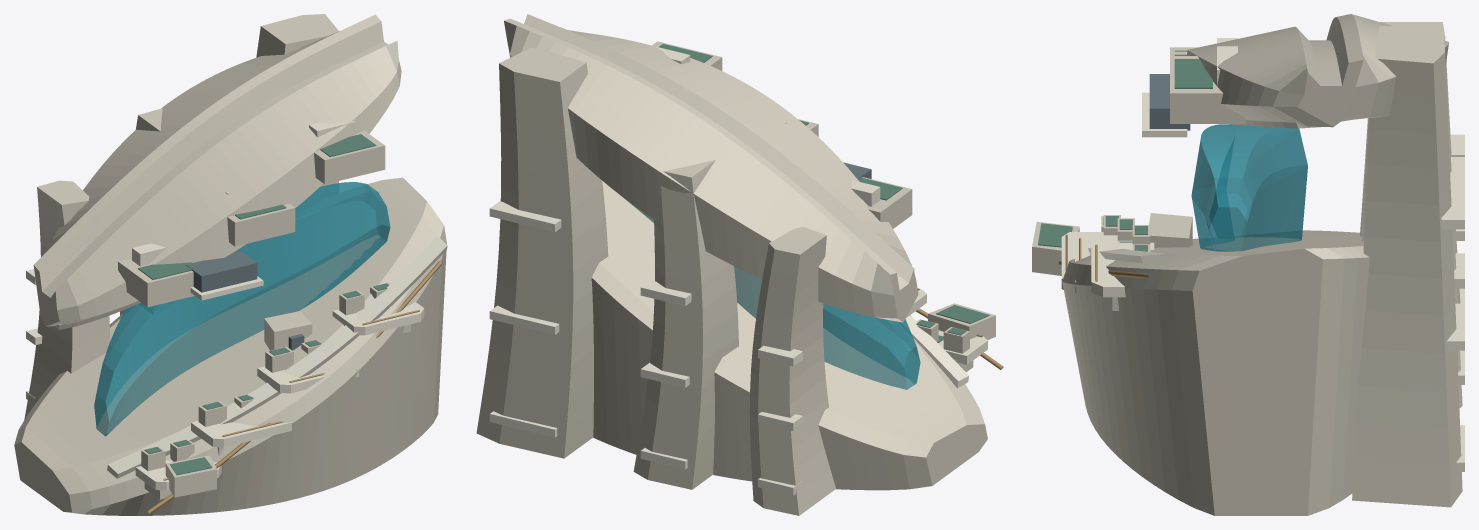
File: dankaikyu_A.glb
3 views of the same model, side by side, from view 1: azimuth 30°, elevation 25°; view 2: azimuth 150°, elevation 25°; view 3: azimuth 270°, elevation 25° (orthographic). The views are drawn at different scales.
Visible parts, largest first — view 1: LOWER / inhabited continent and cape, UPPER / cantilevered urban continent, SEA / inclined ocean volume, REAR / tapered inhabited buttress 00, FAULT LIP / lower, REAR / tapered inhabited buttress 02, UPPER CITY / cliff precinct 0, UPPER CITY / cliff precinct 2, FACILITY / Deep Library 700m, UPPER CITY / cliff precinct 1, PUBLIC / horizontal city terrace 01, PUBLIC / horizontal city terrace 03 (+12 smaller); view 2: UPPER / cantilevered urban continent, LOWER / inhabited continent and cape, REAR / tapered inhabited buttress 02, REAR / tapered inhabited buttress 01, REAR / tapered inhabited buttress 00, SEA / inclined ocean volume, FAULT LIP / lower, UPPER CITY / cliff precinct 0, FACILITY / Ocean Civic Forum 560m, REAR / inhabited gallery 2.2, REAR / inhabited gallery 2.1, REAR / inhabited gallery 1.2 (+4 smaller); view 3: LOWER / inhabited continent and cape, REAR / tapered inhabited buttress 02, UPPER / cantilevered urban continent, SEA / inclined ocean volume, UPPER CITY / cliff precinct 2, FACILITY / Research Institute 340m, PUBLIC / horizontal city terrace 03, FACILITY / Deep Library 700m, FACILITY / Ocean Civic Forum 560m, UPPER CITY / precinct garden 2, REAR / tapered inhabited buttress 01, REAR / inhabited gallery 2.2 (+7 smaller).
Boxes of the visible parts, x1,y1,x2,y2 form: LOWER / inhabited continent and cape: [14, 177, 446, 515]; UPPER / cantilevered urban continent: [33, 14, 401, 326]; SEA / inclined ocean volume: [94, 182, 390, 436]; REAR / tapered inhabited buttress 00: [24, 180, 110, 419]; FAULT LIP / lower: [107, 236, 447, 478]; REAR / tapered inhabited buttress 02: [256, 14, 338, 186]; UPPER CITY / cliff precinct 0: [118, 259, 194, 307]; UPPER CITY / cliff precinct 2: [314, 130, 385, 184]; FACILITY / Deep Library 700m: [186, 251, 257, 292]; UPPER CITY / cliff precinct 1: [227, 203, 295, 246]; PUBLIC / horizontal city terrace 01: [191, 420, 292, 447]; PUBLIC / horizontal city terrace 03: [332, 302, 424, 335]; UPPER / cantilevered urban continent: [504, 14, 918, 322]; LOWER / inhabited continent and cape: [591, 181, 987, 490]; REAR / tapered inhabited buttress 02: [476, 48, 608, 458]; REAR / tapered inhabited buttress 01: [633, 160, 738, 489]; REAR / tapered inhabited buttress 00: [749, 227, 835, 515]; SEA / inclined ocean volume: [625, 199, 920, 389]; FAULT LIP / lower: [905, 315, 968, 388]; UPPER CITY / cliff precinct 0: [862, 177, 912, 228]; FACILITY / Ocean Civic Forum 560m: [928, 303, 995, 339]; REAR / inhabited gallery 2.2: [489, 201, 561, 232]; REAR / inhabited gallery 2.1: [489, 305, 559, 334]; REAR / inhabited gallery 1.2: [640, 280, 691, 306]; LOWER / inhabited continent and cape: [1062, 230, 1369, 515]; REAR / tapered inhabited buttress 02: [1352, 26, 1462, 507]; UPPER / cantilevered urban continent: [1186, 14, 1448, 127]; SEA / inclined ocean volume: [1191, 124, 1307, 251]; UPPER CITY / cliff precinct 2: [1170, 56, 1245, 123]; FACILITY / Research Institute 340m: [1149, 213, 1192, 247]; PUBLIC / horizontal city terrace 03: [1091, 242, 1154, 297]; FACILITY / Deep Library 700m: [1149, 74, 1190, 130]; FACILITY / Ocean Civic Forum 560m: [1032, 221, 1079, 275]; UPPER CITY / precinct garden 2: [1174, 59, 1212, 88]; REAR / tapered inhabited buttress 01: [1361, 24, 1462, 408]; REAR / inhabited gallery 2.2: [1441, 182, 1464, 229].
Bounding box in the file's own units: 4800 × 4303 × 3720.
